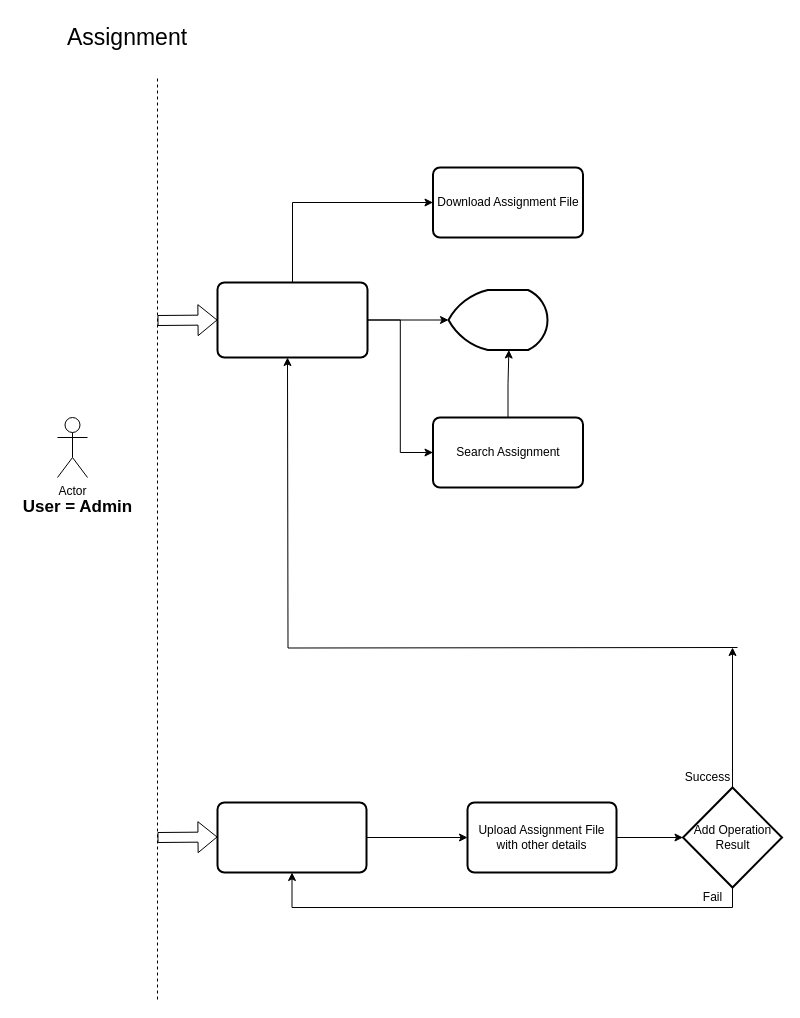
Image size: 800x1018. Some labels were removed from this diagram. Here are the shapes that lost their labels. From the top down, the centre of each, then its label:
the point at 292,319: View Assignment
the point at 497,319: Display Assignment
the point at 291,837: Add Assignment
